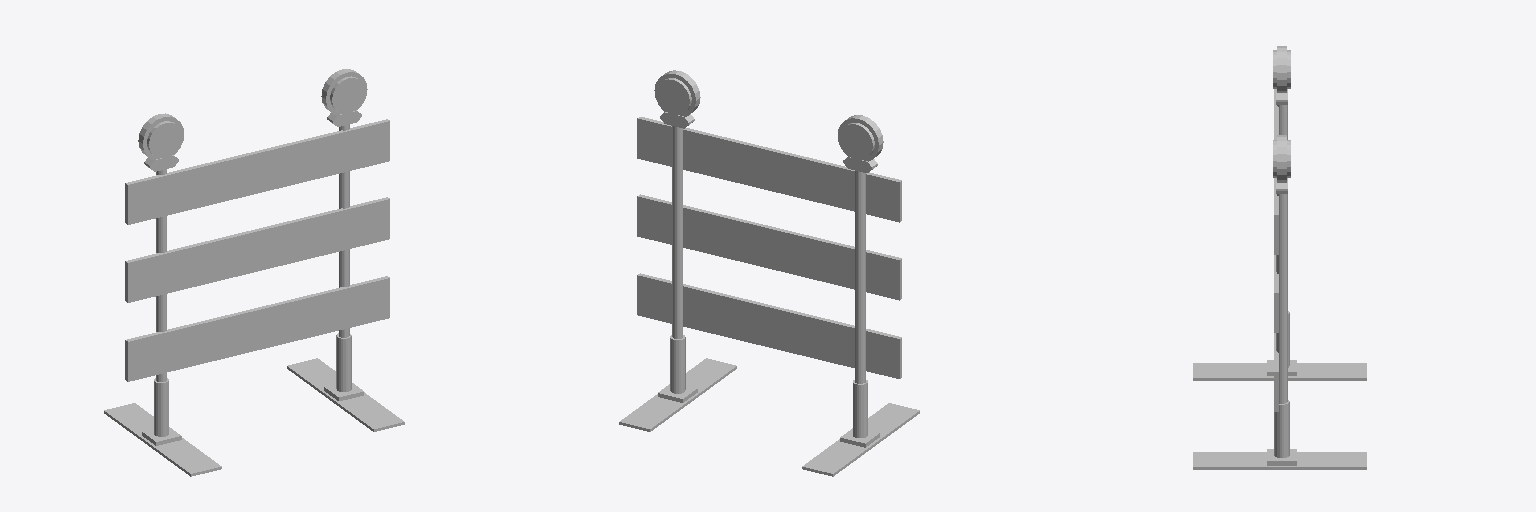
File: Road Thing.obj
The picture shows the model from 3 angles: view 1: azimuth 30°, elevation 25°; view 2: azimuth 150°, elevation 25°; view 3: azimuth 270°, elevation 25°; orthographic projection.
Parts seen in each view (by area): view 1: pCube6; view 2: pCube6; view 3: pCube6.
Part boxes in pixels (x1,y1,x2,y2): pCube6: (104, 69, 404, 476); pCube6: (619, 70, 919, 476); pCube6: (1193, 46, 1366, 469).
Bounding box in the file's own units: 3.28 × 3.88 × 1.89.